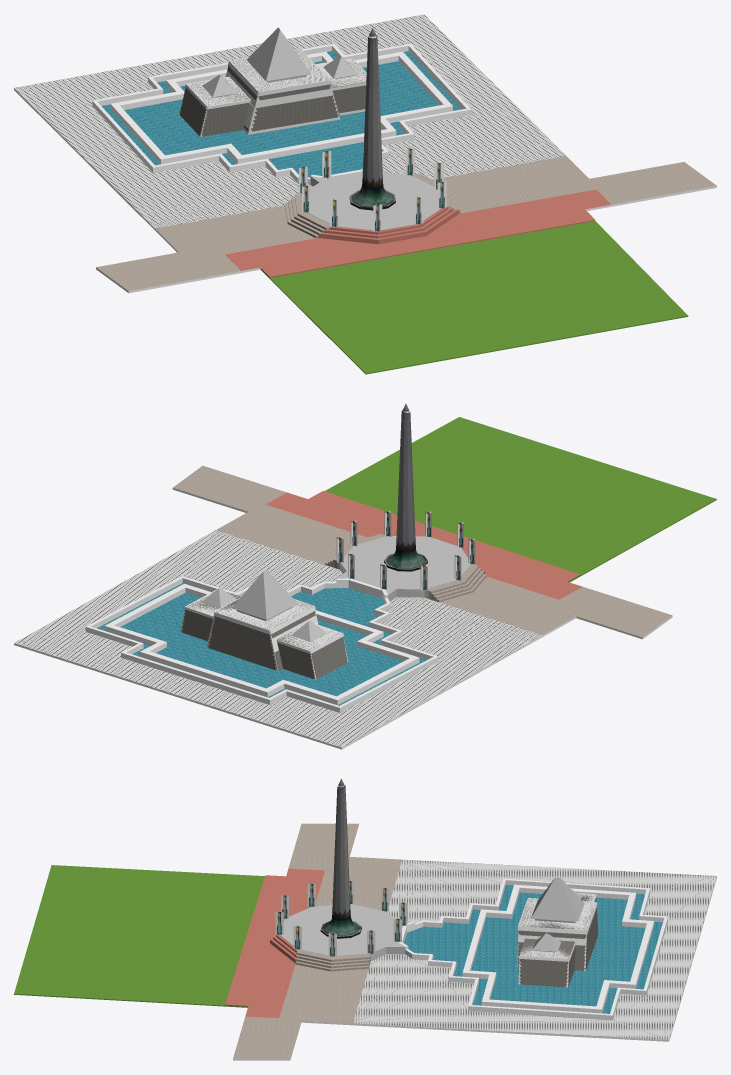
The model's file is monumen_tugu_pahlawan_dan_museum_10_november.obj.
3 views of the same model, one above another, from view 1: azimuth 30°, elevation 25°; view 2: azimuth 150°, elevation 25°; view 3: azimuth 270°, elevation 25° (orthographic). The views are drawn at different scales.
Visible parts, largest first — view 1: Mesh41_Grass_Dark_Green_0, Mesh41_Ornate_Tile_01_0, Mesh41_Encaustic_Tile_Circular_02_0, Mesh41_FrontColor_0, Mesh41_Tile_Hexagon_White_0, Mesh41_Water_Pool_0, Mesh41_Rough_Square_Concrete_Block_0, Mesh41_Cladding_Stucco_White_0, Mesh7_Color_M01_0, Mesh5_Translucent_Glass_Gray_0, Mesh41_Translucent_Glass_Gray_0, Mesh41_Color_M01_0 (+6 smaller); view 2: Mesh41_Grass_Dark_Green_0, Mesh41_Ornate_Tile_01_0, Mesh41_Encaustic_Tile_Circular_02_0, Mesh41_FrontColor_0, Mesh41_Water_Pool_0, Mesh41_Tile_Hexagon_White_0, Mesh41_Rough_Square_Concrete_Block_0, Mesh41_Cladding_Stucco_White_0, Mesh5_Translucent_Glass_Gray_0, Mesh41_Translucent_Glass_Gray_0, Mesh7_Color_M01_0, Mesh41_Color_M01_0 (+4 smaller); view 3: Mesh41_Grass_Dark_Green_0, Mesh41_Ornate_Tile_01_0, Mesh41_Water_Pool_0, Mesh41_Encaustic_Tile_Circular_02_0, Mesh41_FrontColor_0, Mesh41_Tile_Hexagon_White_0, Mesh41_Cladding_Stucco_White_0, Mesh41_Rough_Square_Concrete_Block_0, Mesh7_Color_M01_0, Mesh41_Translucent_Glass_Gray_0, Mesh5_Translucent_Glass_Gray_0, Mesh24_tugu_0 (+5 smaller).
Boxes of the visible parts, bbox=[...] form: Mesh41_Grass_Dark_Green_0: bbox=[260, 221, 688, 374]; Mesh41_Ornate_Tile_01_0: bbox=[14, 14, 565, 228]; Mesh41_Encaustic_Tile_Circular_02_0: bbox=[96, 156, 716, 290]; Mesh41_FrontColor_0: bbox=[14, 43, 716, 293]; Mesh41_Tile_Hexagon_White_0: bbox=[225, 189, 610, 277]; Mesh41_Water_Pool_0: bbox=[101, 51, 461, 177]; Mesh41_Rough_Square_Concrete_Block_0: bbox=[180, 49, 366, 136]; Mesh41_Cladding_Stucco_White_0: bbox=[308, 170, 441, 230]; Mesh7_Color_M01_0: bbox=[225, 49, 340, 134]; Mesh5_Translucent_Glass_Gray_0: bbox=[247, 27, 311, 81]; Mesh41_Translucent_Glass_Gray_0: bbox=[206, 32, 354, 94]; Mesh41_Color_M01_0: bbox=[185, 49, 366, 109]; Mesh41_Grass_Dark_Green_0: bbox=[324, 417, 716, 582]; Mesh41_Ornate_Tile_01_0: bbox=[14, 530, 541, 747]; Mesh41_Encaustic_Tile_Circular_02_0: bbox=[173, 465, 672, 637]; Mesh41_FrontColor_0: bbox=[14, 488, 672, 749]; Mesh41_Water_Pool_0: bbox=[97, 583, 426, 705]; Mesh41_Tile_Hexagon_White_0: bbox=[266, 491, 582, 599]; Mesh41_Rough_Square_Concrete_Block_0: bbox=[181, 592, 347, 679]; Mesh41_Cladding_Stucco_White_0: bbox=[337, 536, 471, 601]; Mesh5_Translucent_Glass_Gray_0: bbox=[232, 569, 297, 619]; Mesh41_Translucent_Glass_Gray_0: bbox=[207, 573, 324, 639]; Mesh7_Color_M01_0: bbox=[206, 599, 318, 670]; Mesh41_Color_M01_0: bbox=[184, 589, 343, 653]; Mesh41_Grass_Dark_Green_0: bbox=[14, 865, 264, 1007]; Mesh41_Ornate_Tile_01_0: bbox=[353, 859, 716, 1039]; Mesh41_Water_Pool_0: bbox=[404, 885, 662, 1013]; Mesh41_Encaustic_Tile_Circular_02_0: bbox=[233, 823, 401, 1058]; Mesh41_FrontColor_0: bbox=[233, 824, 716, 1060]; Mesh41_Tile_Hexagon_White_0: bbox=[225, 868, 324, 1018]; Mesh41_Cladding_Stucco_White_0: bbox=[280, 904, 412, 960]; Mesh41_Rough_Square_Concrete_Block_0: bbox=[517, 894, 598, 987]; Mesh7_Color_M01_0: bbox=[517, 898, 596, 970]; Mesh41_Translucent_Glass_Gray_0: bbox=[533, 880, 582, 949]; Mesh5_Translucent_Glass_Gray_0: bbox=[531, 877, 584, 921]; Mesh24_tugu_0: bbox=[338, 779, 351, 938].
Bounding box in the file's own units: 1.33 × 0.4253 × 1.68.
15 materials, 10 textured.
